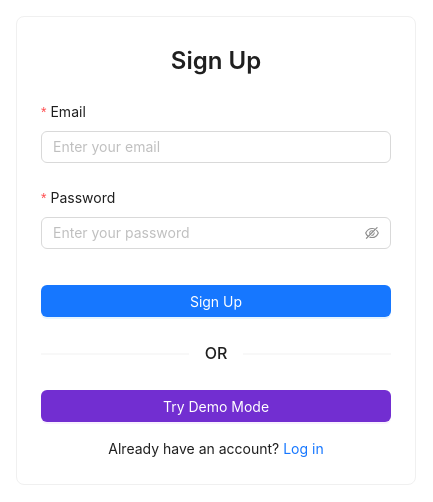
Test: SignUp Component › displays validation error for short password
The width and height of the screenshot is (433, 502).
Note: Submit with short password
In the field with placeholder "Enter your email": (216, 147) [41,131,391,163], type "test@example.com"
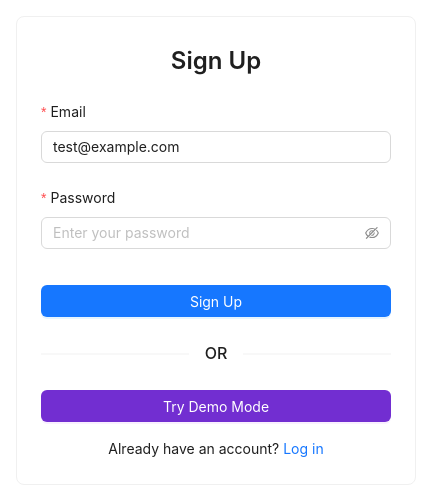
In the password field with placeholder "Enter your password": (207, 233) [53,222,361,244], type "12"
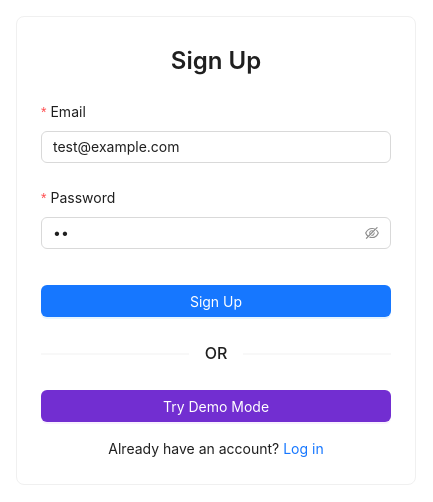
Click the button "Sign Up": (216, 301) [41,285,391,317]
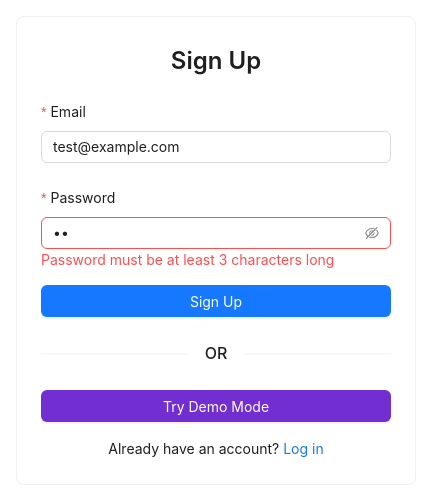
Expected: the text "Password must be at least 3 characters long" is shown, [41,251,334,268]
